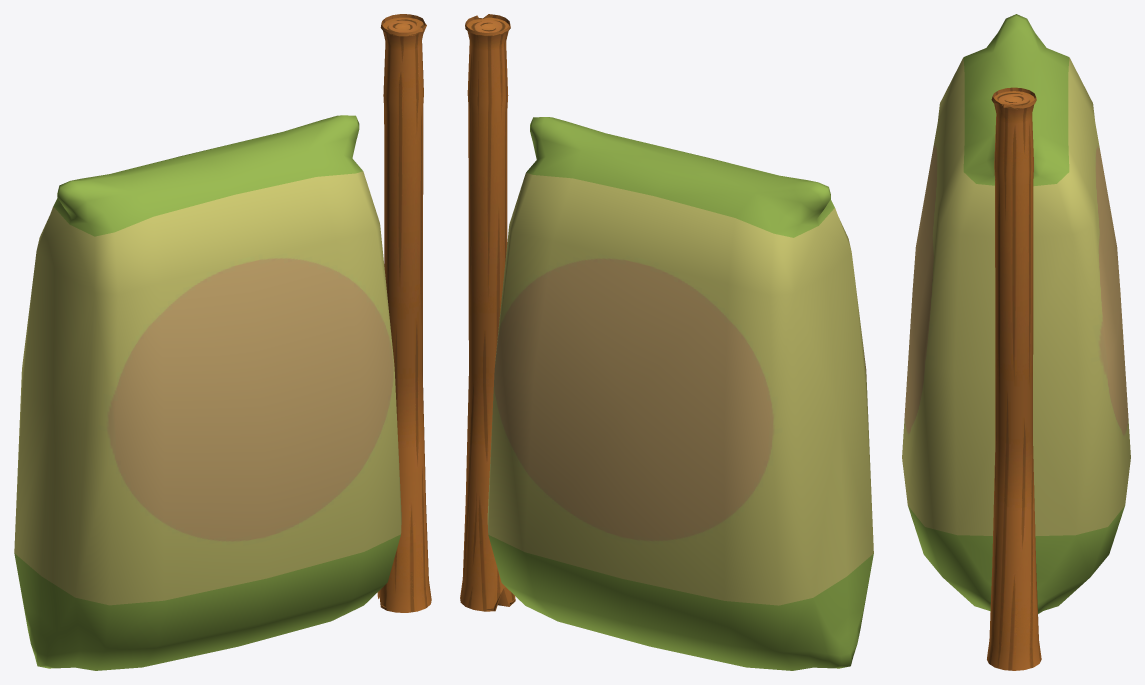
File: GreenBeanSeeds.fbx
3 views of the same model, side by side, from view 1: azimuth 30°, elevation 25°; view 2: azimuth 150°, elevation 25°; view 3: azimuth 270°, elevation 25° (orthographic). The views are drawn at different scales.
Parts seen in each view (by area): view 1: BagOfStuff, PlantStake (1); view 2: BagOfStuff, PlantStake (1); view 3: BagOfStuff, PlantStake (1).
Boxes of the visible parts, x1,y1,x2,y2 form: BagOfStuff: [14, 115, 401, 670]; PlantStake (1): [377, 14, 431, 612]; BagOfStuff: [487, 117, 873, 670]; PlantStake (1): [460, 14, 515, 611]; BagOfStuff: [902, 14, 1130, 613]; PlantStake (1): [987, 87, 1041, 670].
Bounding box in the file's own units: 0.7956 × 1.13 × 0.4158.
